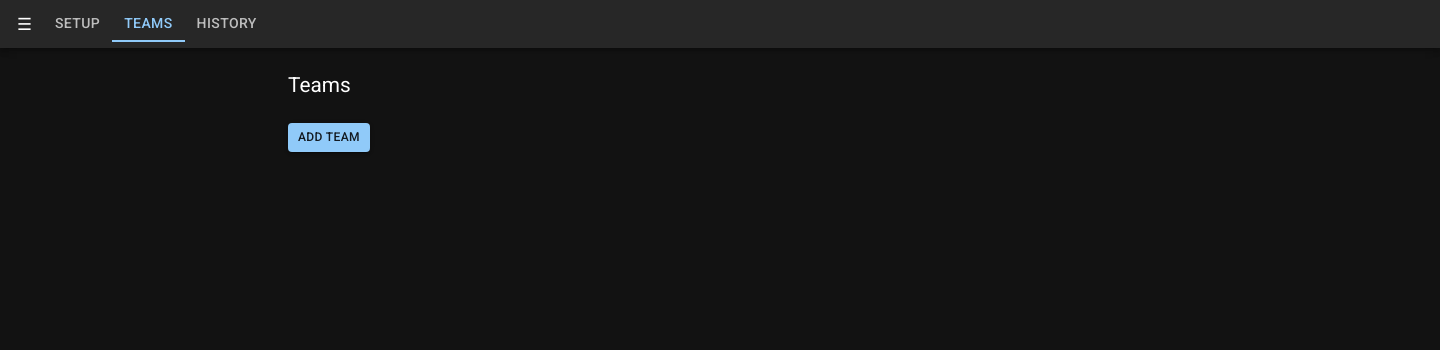
Test: App › renders the Teams tab by default and can switch to Setup
This screenshot has width=1440, height=350.
expect the heading "Teams" is shown: met, box [288,73,351,97]
Click the tab "Setup": (78, 24) [43,6,112,42]
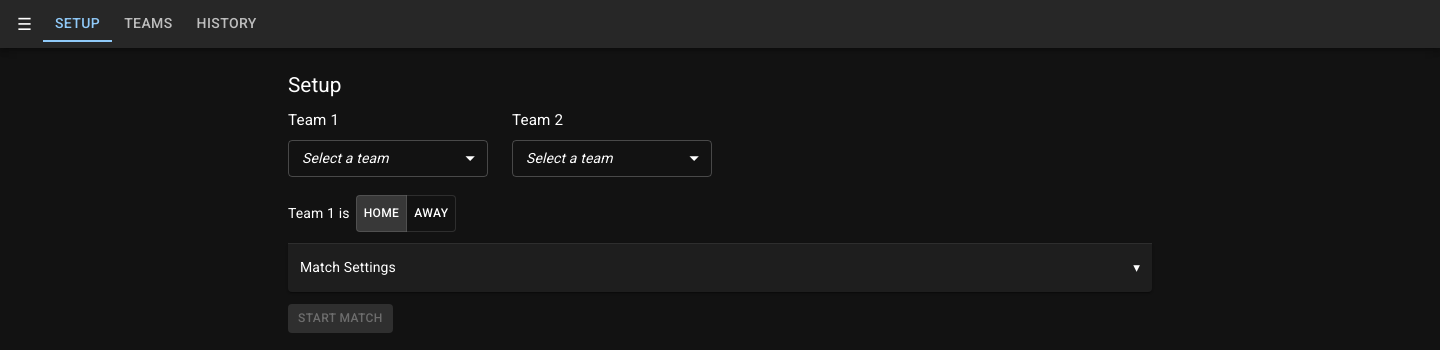
expect the heading "Setup" is shown: met, box [288,73,341,97]
